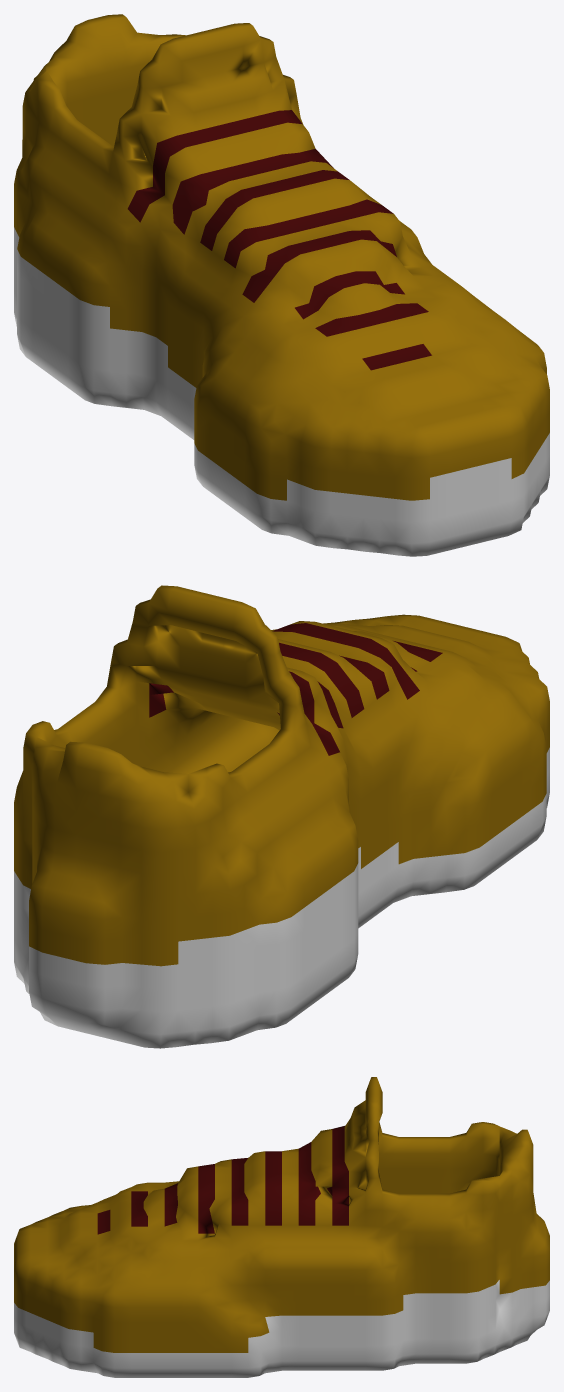
The picture shows the model from 3 angles, top to bottom: view 1: azimuth 30°, elevation 25°; view 2: azimuth 150°, elevation 25°; view 3: azimuth 270°, elevation 25°; orthographic projection. The views are drawn at different scales.
Size of the model in its own units: 0.7 by 0.7875 by 1.6.
